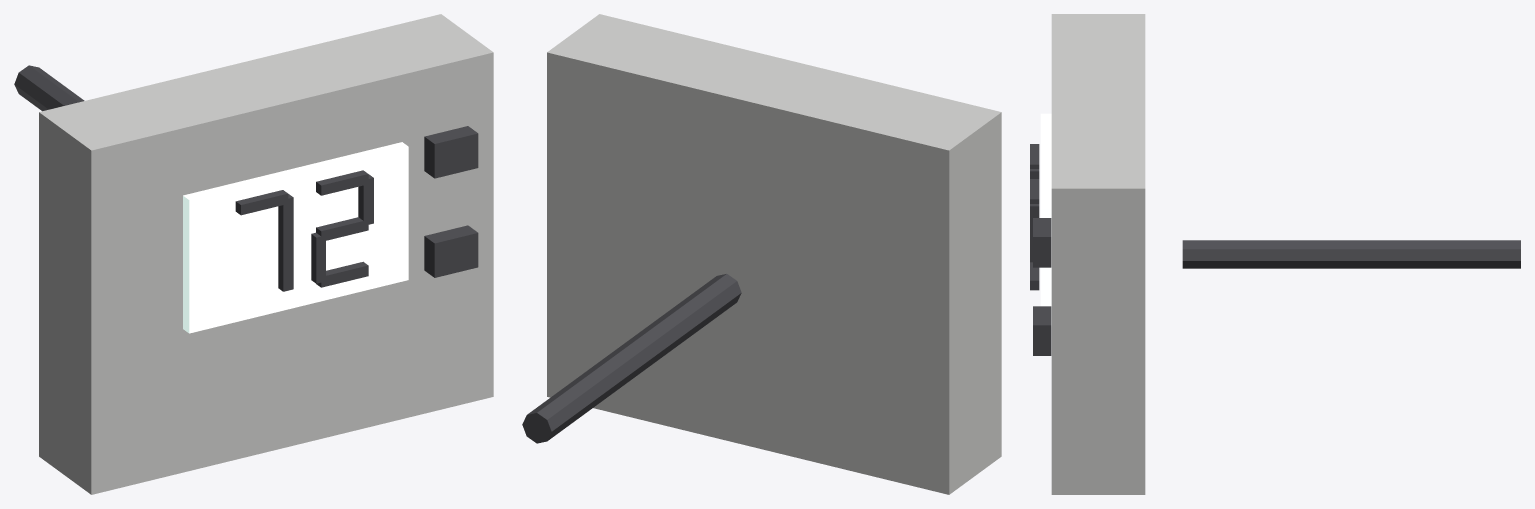
Rendered from thermostat.glb.
3 views of the same model, side by side, from view 1: azimuth 30°, elevation 25°; view 2: azimuth 150°, elevation 25°; view 3: azimuth 270°, elevation 25° (orthographic). The views are drawn at different scales.
Parts seen in each view (by area): view 1: stat_body, stat_screen, stat_setpoint, stat_up, stat_down, stat_wire; view 2: stat_body, stat_wire; view 3: stat_body, stat_wire, stat_screen, stat_setpoint, stat_down, stat_up.
Part boxes in pixels (x1,y1,x2,y2): stat_body: (39,14,493,494); stat_screen: (183,142,408,333); stat_setpoint: (235,170,373,291); stat_up: (424,126,478,178); stat_down: (424,225,478,277); stat_wire: (14,65,84,111); stat_body: (547,14,1001,494); stat_wire: (522,274,741,443); stat_body: (1051,14,1145,494); stat_wire: (1182,240,1520,268); stat_screen: (1040,113,1051,326); stat_setpoint: (1030,144,1039,290); stat_down: (1033,306,1051,355); stat_up: (1033,218,1051,267).
Bounding box in the file's own units: 0.1101 × 0.0901 × 0.1308.
